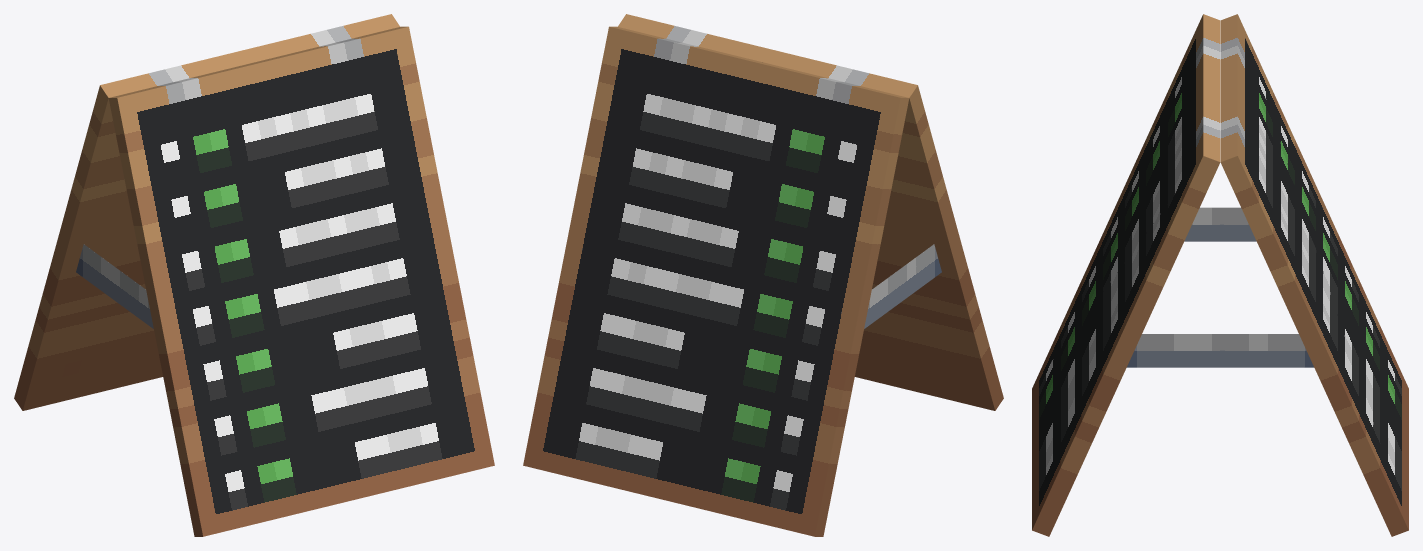
Rendered from standing-sign.gltf.
3 views of the same model, side by side, from view 1: azimuth 30°, elevation 25°; view 2: azimuth 150°, elevation 25°; view 3: azimuth 270°, elevation 25° (orthographic).
Visible parts, largest first — view 1: cube (×3); view 2: cube (×3); view 3: cube (×4).
Part boxes in pixels (x1,y1,x2,y2): cube (×3): (14, 14, 494, 536); cube (×3): (523, 14, 1003, 536); cube (×4): (1032, 14, 1408, 536).
Bounding box in the file's own units: 1.12 × 1.41 × 1.26.
3 materials, 1 textured.
